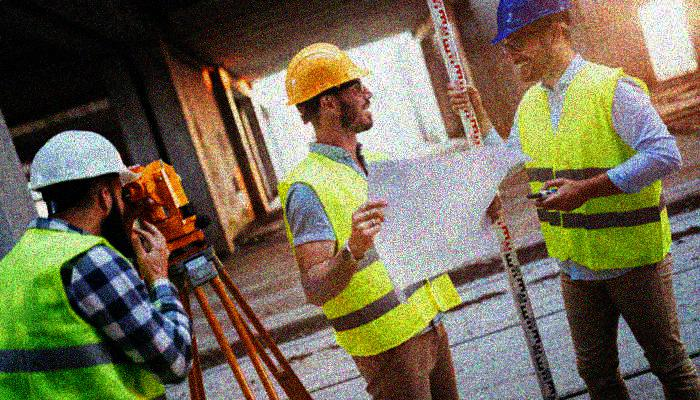helmet: (29, 128, 143, 246), (285, 39, 382, 132), (490, 1, 575, 86)
